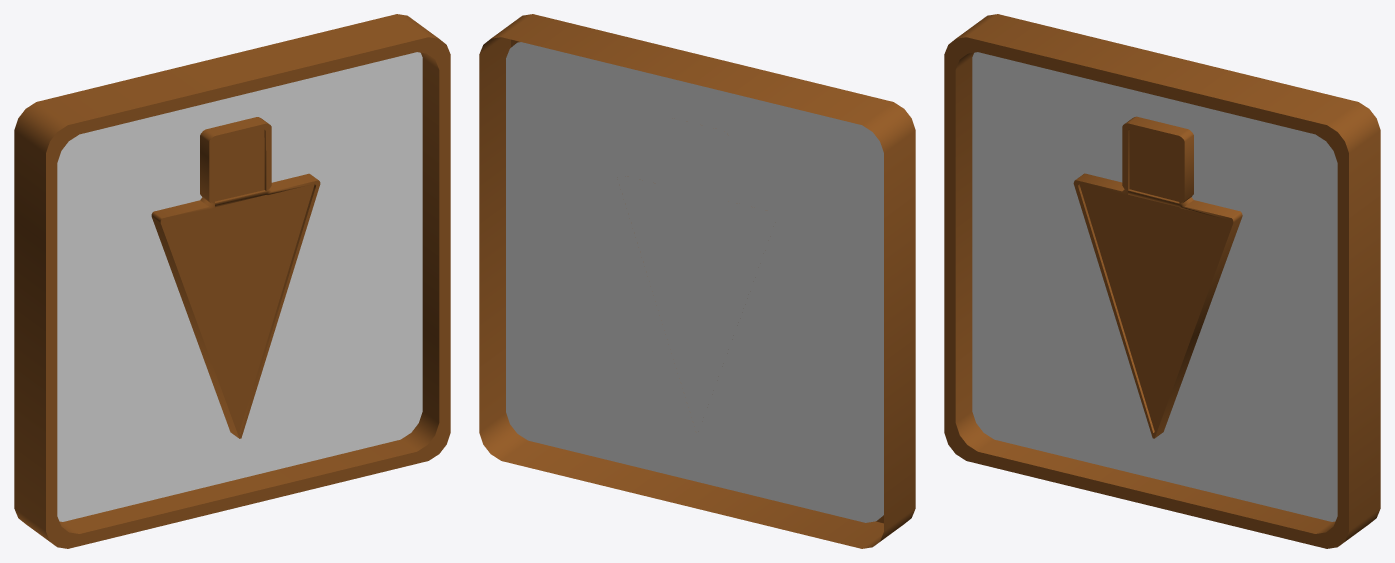
File: men.fbx
3 renders of one model, left to right at view 1: azimuth 30°, elevation 25°; view 2: azimuth 150°, elevation 25°; view 3: azimuth 330°, elevation 25°, orthographic.
Parts seen in each view (by area): view 1: men; view 2: men; view 3: men.
Boxes of the visible parts, x1,y1,x2,y2 form: men: [14, 14, 450, 548]; men: [479, 14, 915, 548]; men: [944, 14, 1380, 548].
Bounding box in the file's own units: 51.02 × 51.02 × 6.91.
